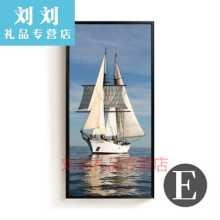fanchuan: (77, 52, 140, 159)
